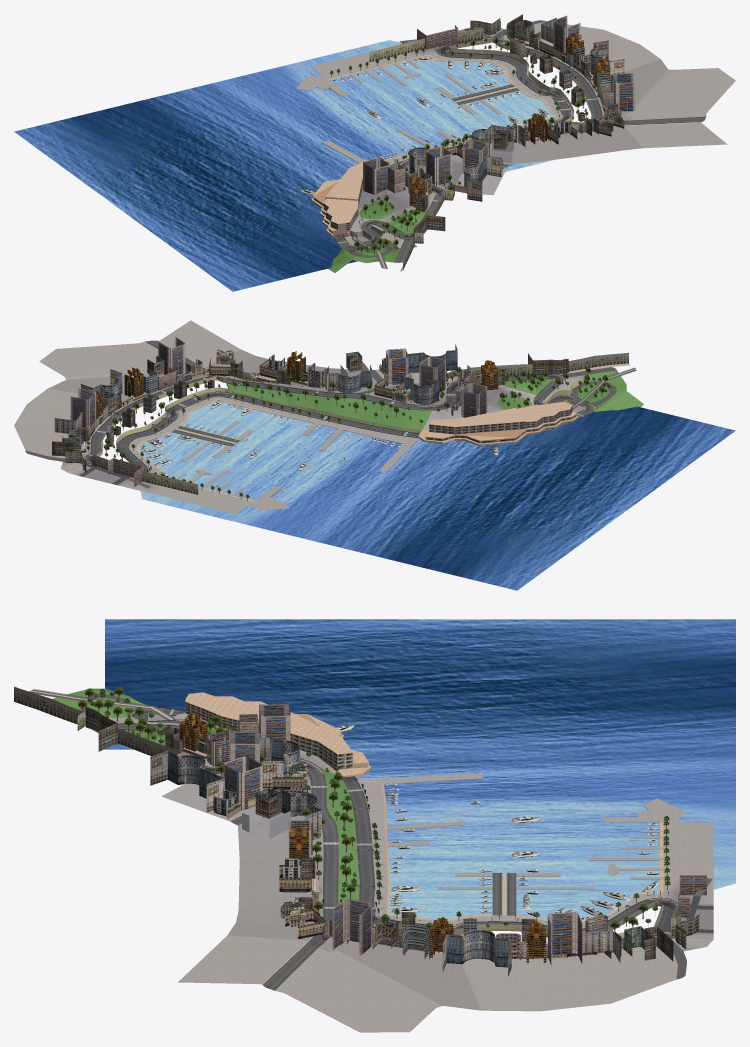
Rendered from monaco.glb.
The picture shows the model from 3 angles, top to bottom: view 1: azimuth 30°, elevation 25°; view 2: azimuth 150°, elevation 25°; view 3: azimuth 270°, elevation 25°; orthographic projection. The views are drawn at different scales.
Visible parts, largest first — view 1: 11401_tex_11401_0, 11404_tex_11404_0, 11425_tex_11425_0, 11400_tex_11400_0, 11420_tex_11420_0, 11423_tex_11423_0, 11424_tex_11424_0, 11410_tex_11410_0, 11403_tex_11403_0, 11421_tex_11421_0, 11422_tex_11422_0; view 2: 11401_tex_11401_0, 11404_tex_11404_0, 11425_tex_11425_0, 11400_tex_11400_0, 11420_tex_11420_0, 11403_tex_11403_0, 11423_tex_11423_0, 11424_tex_11424_0, 11410_tex_11410_0, 11421_tex_11421_0, 11405_tex_11405_0, 11422_tex_11422_0; view 3: 11401_tex_11401_0, 11404_tex_11404_0, 11425_tex_11425_0, 11423_tex_11423_0, 11400_tex_11400_0, 11420_tex_11420_0, 11424_tex_11424_0, 11410_tex_11410_0, 11421_tex_11421_0, 11403_tex_11403_0, 11405_tex_11405_0, 11422_tex_11422_0 (+1 smaller).
Part boxes in pixels (x1=…): 11401_tex_11401_0: x1=14, y1=40, x2=554, y2=291; 11404_tex_11404_0: x1=296, y1=21, x2=735, y2=248; 11425_tex_11425_0: x1=363, y1=14, x2=635, y2=269; 11400_tex_11400_0: x1=333, y1=20, x2=705, y2=268; 11420_tex_11420_0: x1=299, y1=17, x2=611, y2=268; 11423_tex_11423_0: x1=409, y1=32, x2=624, y2=205; 11424_tex_11424_0: x1=330, y1=22, x2=604, y2=254; 11410_tex_11410_0: x1=311, y1=55, x2=555, y2=237; 11403_tex_11403_0: x1=328, y1=124, x2=573, y2=272; 11421_tex_11421_0: x1=400, y1=38, x2=621, y2=271; 11422_tex_11422_0: x1=402, y1=18, x2=607, y2=207; 11401_tex_11401_0: x1=138, y1=400, x2=735, y2=590; 11404_tex_11404_0: x1=14, y1=320, x2=584, y2=513; 11425_tex_11425_0: x1=52, y1=337, x2=628, y2=494; 11400_tex_11400_0: x1=25, y1=340, x2=635, y2=488; 11420_tex_11420_0: x1=54, y1=368, x2=636, y2=499; 11403_tex_11403_0: x1=228, y1=370, x2=643, y2=430; 11423_tex_11423_0: x1=80, y1=344, x2=498, y2=471; 11424_tex_11424_0: x1=60, y1=366, x2=635, y2=501; 11410_tex_11410_0: x1=136, y1=399, x2=578, y2=501; 11421_tex_11421_0: x1=80, y1=351, x2=629, y2=450; 11405_tex_11405_0: x1=111, y1=394, x2=576, y2=461; 11422_tex_11422_0: x1=65, y1=368, x2=481, y2=472; 11401_tex_11401_0: x1=105, y1=619, x2=735, y2=921; 11404_tex_11404_0: x1=84, y1=713, x2=713, y2=1032; 11425_tex_11425_0: x1=14, y1=686, x2=706, y2=966; 11423_tex_11423_0: x1=150, y1=713, x2=650, y2=976; 11400_tex_11400_0: x1=29, y1=689, x2=713, y2=990; 11420_tex_11420_0: x1=35, y1=693, x2=677, y2=962; 11424_tex_11424_0: x1=30, y1=687, x2=674, y2=947; 11410_tex_11410_0: x1=174, y1=692, x2=663, y2=923; 11421_tex_11421_0: x1=84, y1=726, x2=639, y2=954; 11403_tex_11403_0: x1=53, y1=688, x2=359, y2=903; 11405_tex_11405_0: x1=185, y1=702, x2=638, y2=923; 11422_tex_11422_0: x1=173, y1=737, x2=699, y2=958.
Bounding box in the file's own units: 15 × 1.19 × 11.
Materials: 14 (13 with a texture image).
